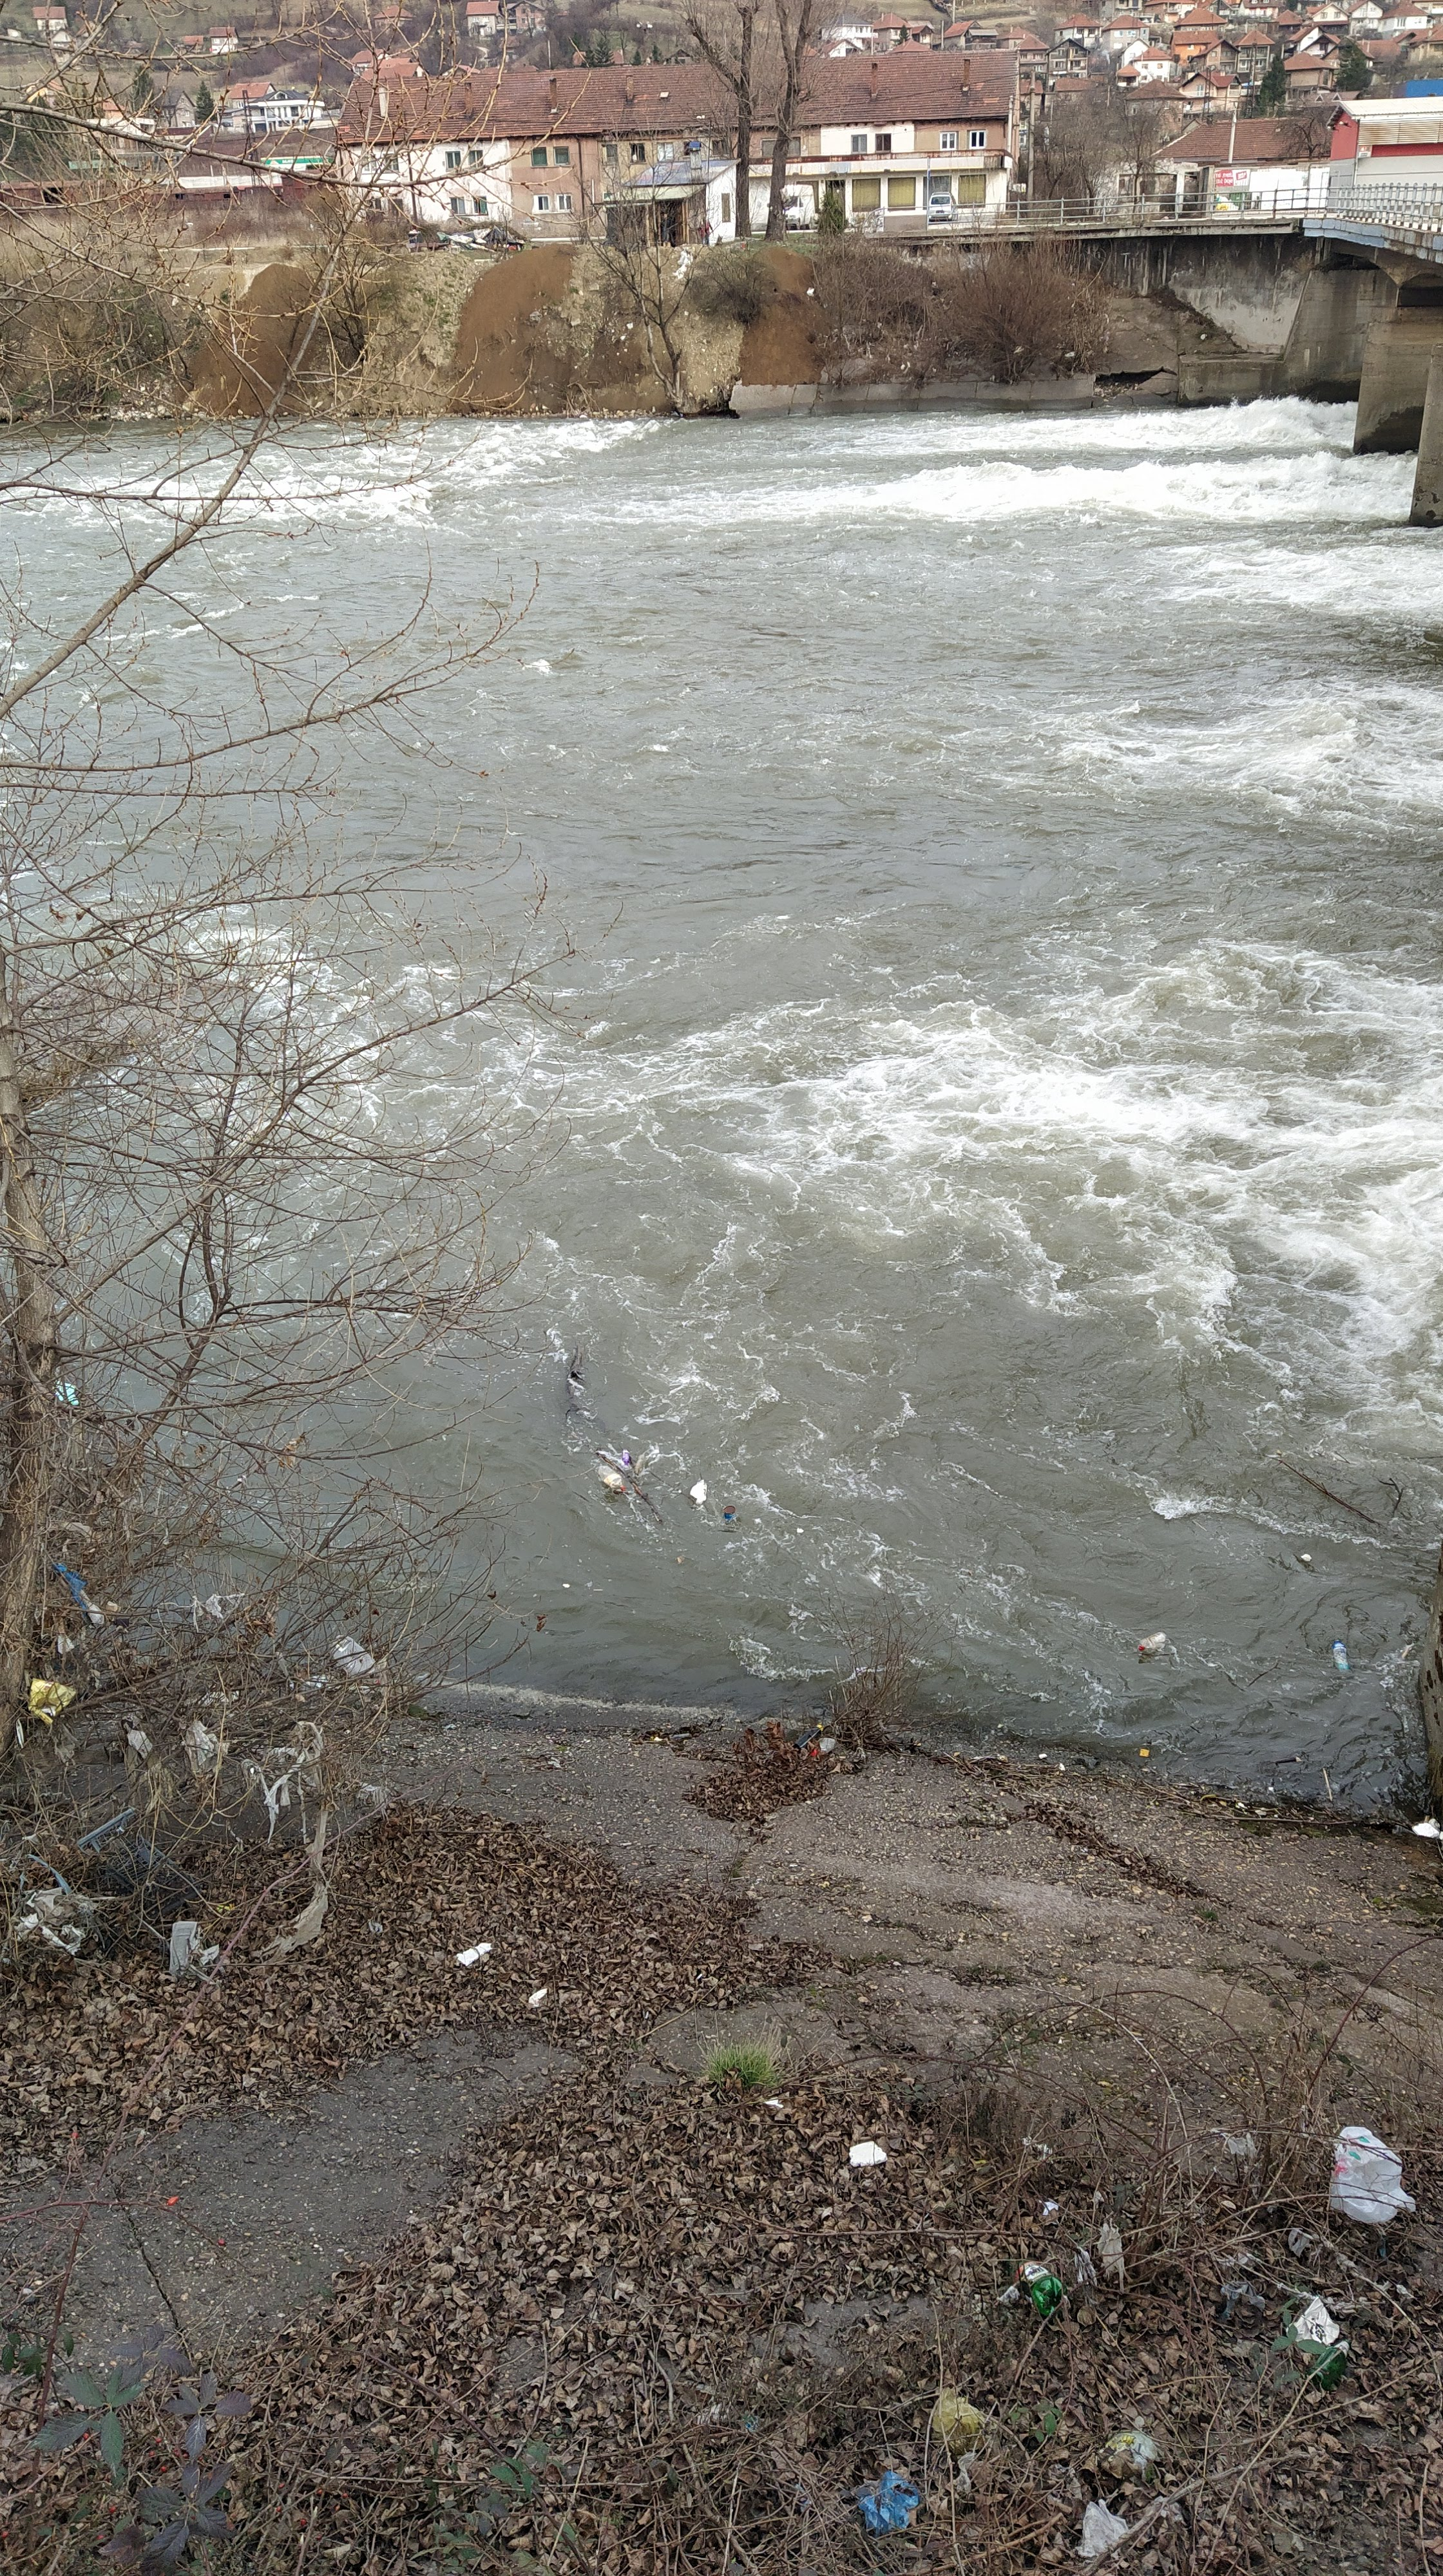Plastic Bottle: (598, 1465, 625, 1491), (1137, 1631, 1167, 1652), (1333, 1638, 1347, 1672), (621, 1449, 630, 1465)
